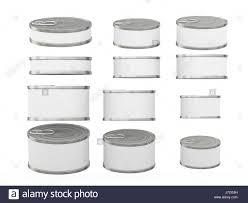Tin: (13, 12, 241, 177)
